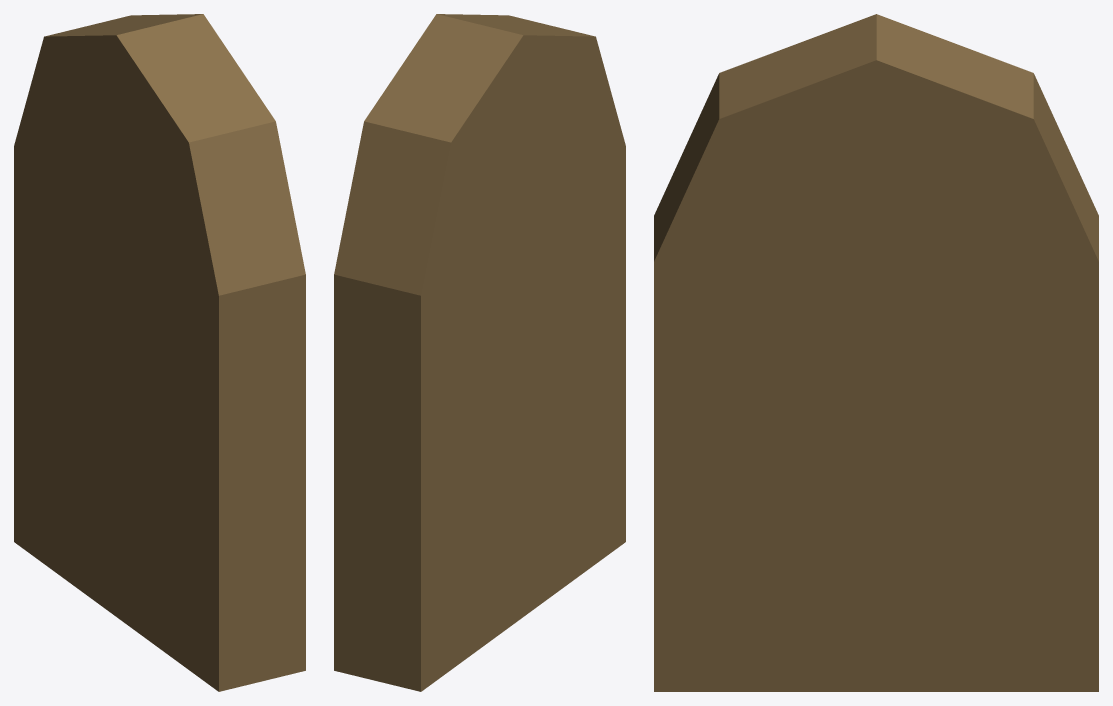
File: Wood_Door_01.obj
3 renders of one model, left to right at view 1: azimuth 30°, elevation 25°; view 2: azimuth 150°, elevation 25°; view 3: azimuth 270°, elevation 25°, orthographic. The views are drawn at different scales.
Parts seen in each view (by area): view 1: Mesh1_Wood_Door_Model; view 2: Mesh1_Wood_Door_Model; view 3: Mesh1_Wood_Door_Model.
Boxes of the visible parts, x1,y1,x2,y2 form: Mesh1_Wood_Door_Model: [14, 14, 305, 691]; Mesh1_Wood_Door_Model: [334, 14, 625, 691]; Mesh1_Wood_Door_Model: [654, 14, 1098, 691].
Bounding box in the file's own units: 0.3 × 1.92 × 1.22.
